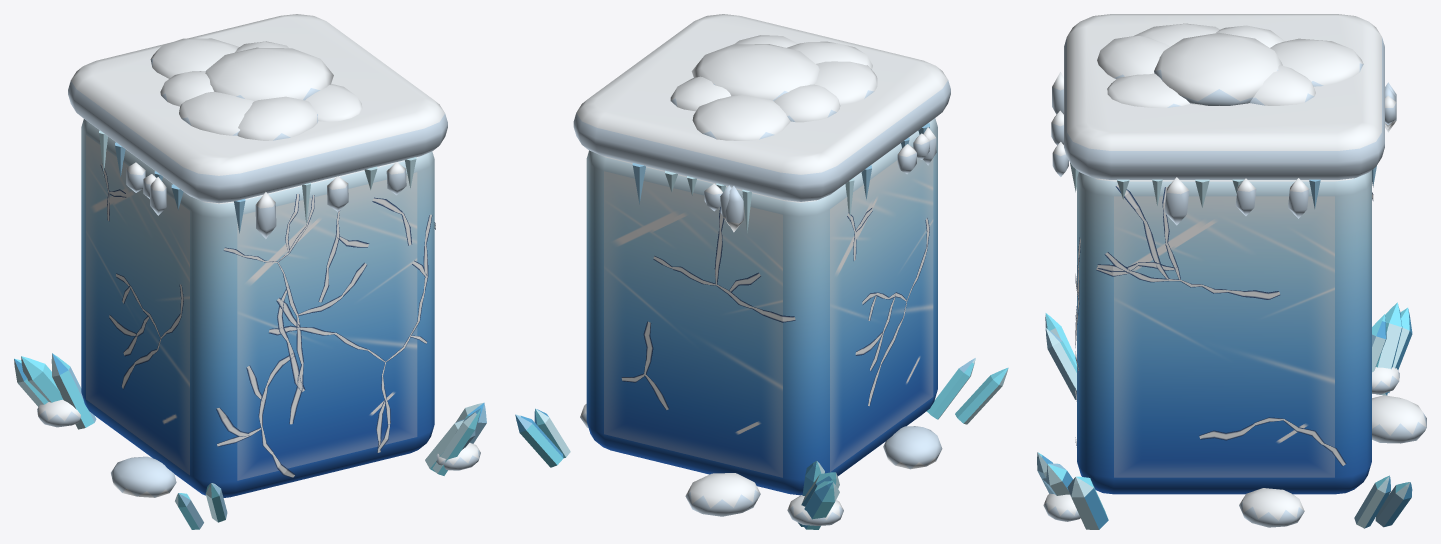
The model's file is IceBlockB.fbx.
The picture shows the model from 3 angles, left to right: view 1: azimuth 30°, elevation 25°; view 2: azimuth 150°, elevation 25°; view 3: azimuth 270°, elevation 25°; orthographic projection. The views are drawn at different scales.
Parts seen in each view (by area): view 1: IceBlockBShell, IceBlockBSnow, IceBlockBCrystals, IceBlockBCrack4, IceBlockBCrack3, IceBlockBCrack2; view 2: IceBlockBShell, IceBlockBSnow, IceBlockBCrystals, IceBlockBCrack4, IceBlockBCrack3; view 3: IceBlockBShell, IceBlockBSnow, IceBlockBCrystals, IceBlockBCrack4, IceBlockBCrack3.
Part boxes in pixels (x1,y1,x2,y2): IceBlockBShell: (81, 119, 434, 497); IceBlockBSnow: (37, 14, 480, 497); IceBlockBCrystals: (14, 130, 486, 529); IceBlockBCrack4: (100, 163, 435, 477); IceBlockBCrack3: (130, 194, 428, 454); IceBlockBCrack2: (143, 195, 427, 399); IceBlockBShell: (586, 118, 937, 495); IceBlockBSnow: (573, 14, 950, 525); IceBlockBCrystals: (515, 123, 1008, 529); IceBlockBCrack4: (621, 207, 929, 410); IceBlockBCrack3: (672, 231, 927, 364); IceBlockBShell: (1077, 170, 1371, 494); IceBlockBSnow: (1043, 14, 1426, 527); IceBlockBCrystals: (1037, 162, 1412, 529); IceBlockBCrack4: (1075, 184, 1373, 466); IceBlockBCrack3: (1077, 215, 1324, 444).
Size of the model in its own units: 152 by 173 by 148.
